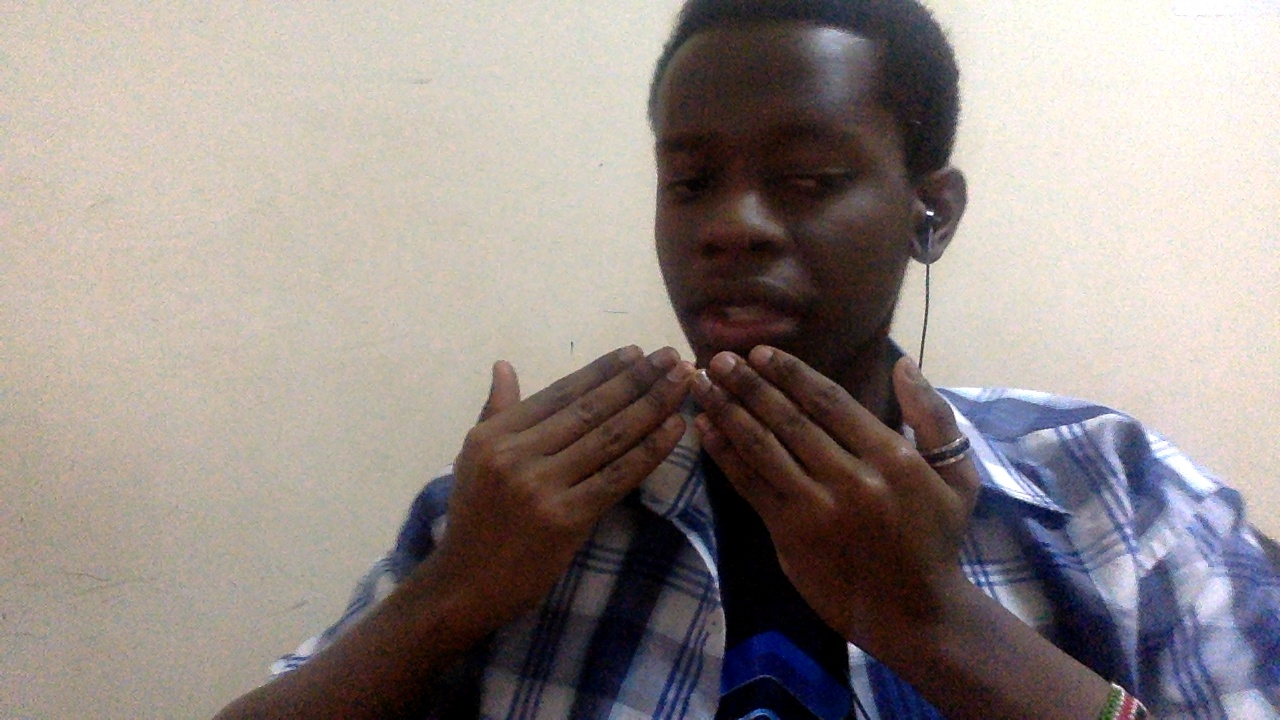ThankYou: (446, 343, 980, 611)
